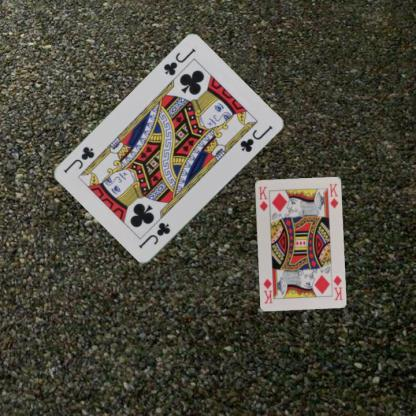Jc: (161, 46, 197, 78), (136, 220, 172, 250)
Kd: (330, 273, 344, 301), (256, 184, 269, 212)
